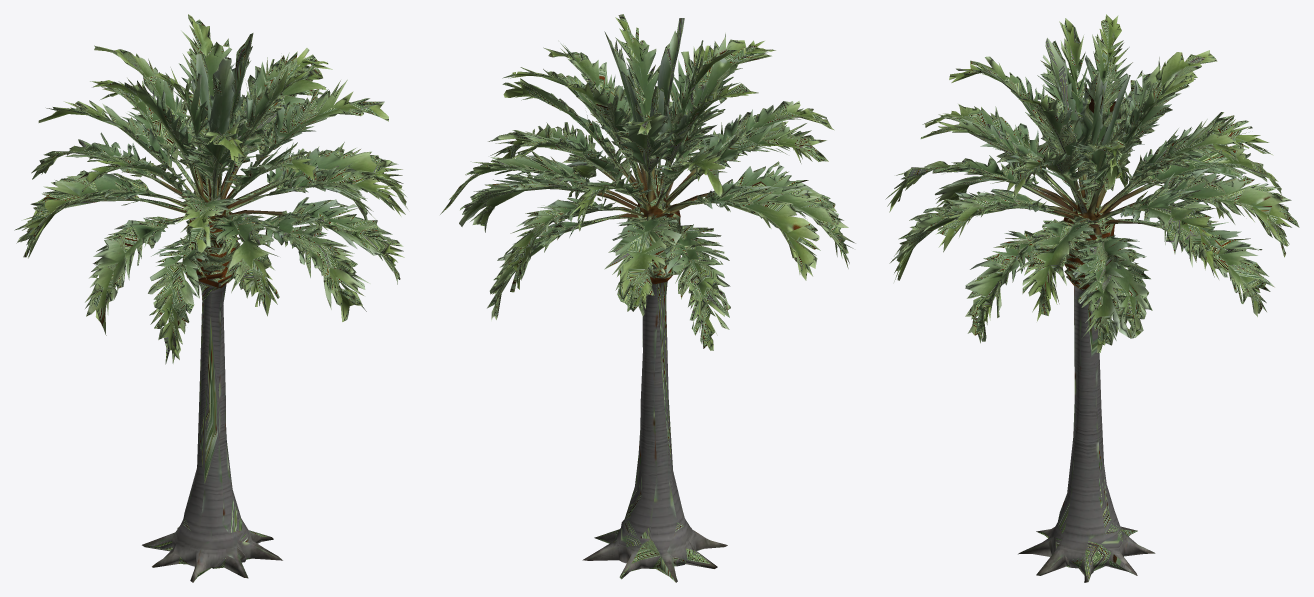
File: palm-fan.glb
The picture shows the model from 3 angles, left to right: view 1: azimuth 30°, elevation 25°; view 2: azimuth 150°, elevation 25°; view 3: azimuth 270°, elevation 25°; orthographic projection. The views are drawn at different scales.
Parts seen in each view (by area): view 1: world; view 2: world; view 3: world.
Boxes of the visible parts, left/top/right/bottom form: world: left=14, top=14, right=407, bottom=582; world: left=440, top=14, right=855, bottom=582; world: left=885, top=14, right=1299, bottom=582.
Size of the model in its own units: 0.698 by 0.9793 by 0.7175.
Materials: 1 (1 with a texture image).
